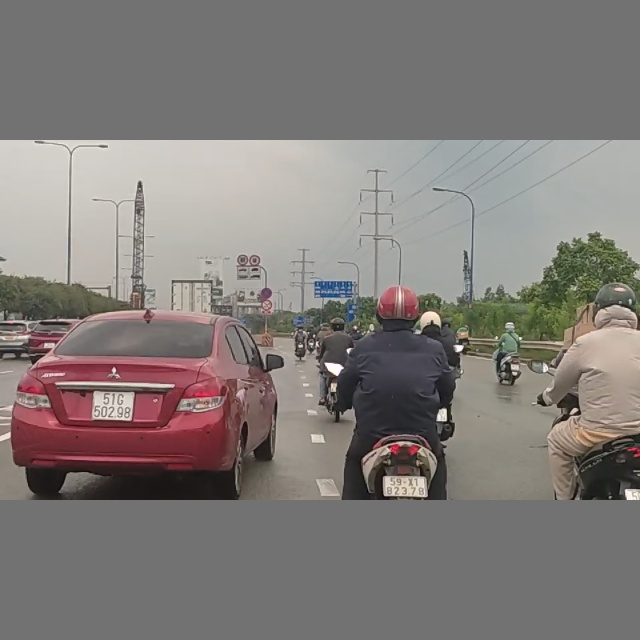P.130: (260, 287, 273, 299)
